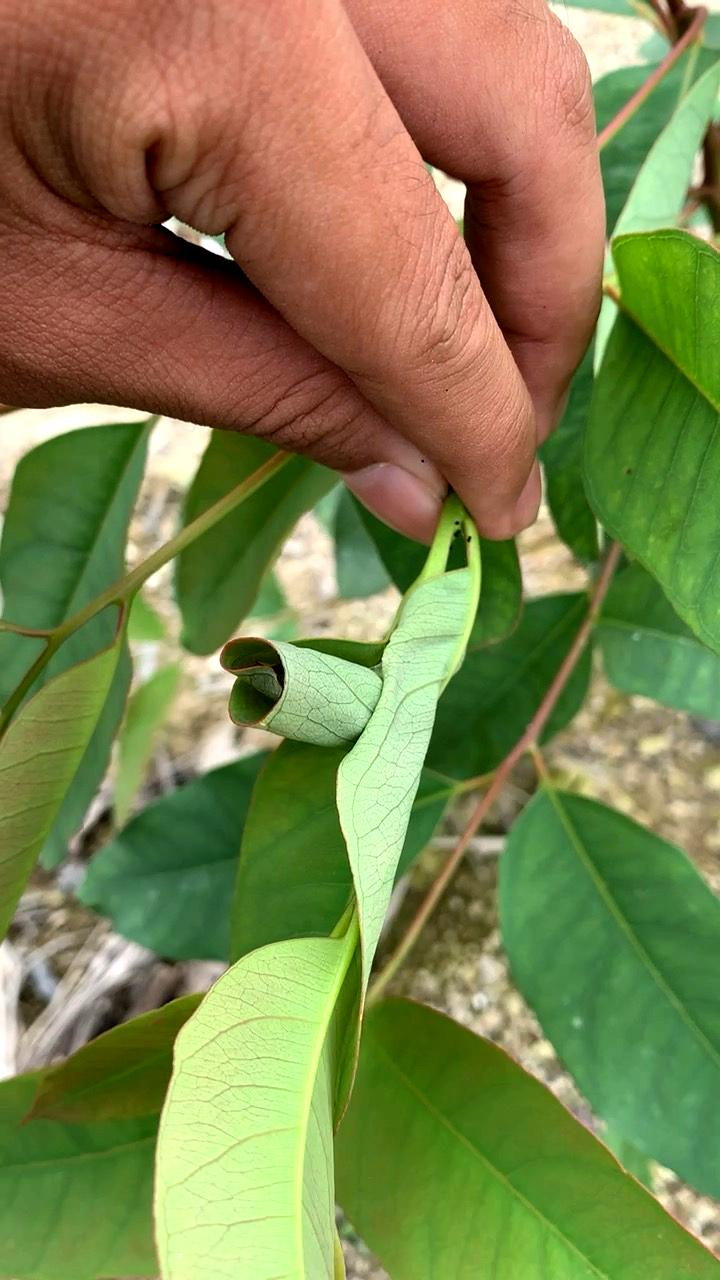Leaf Roller - Leaf: (216, 596, 413, 780)
